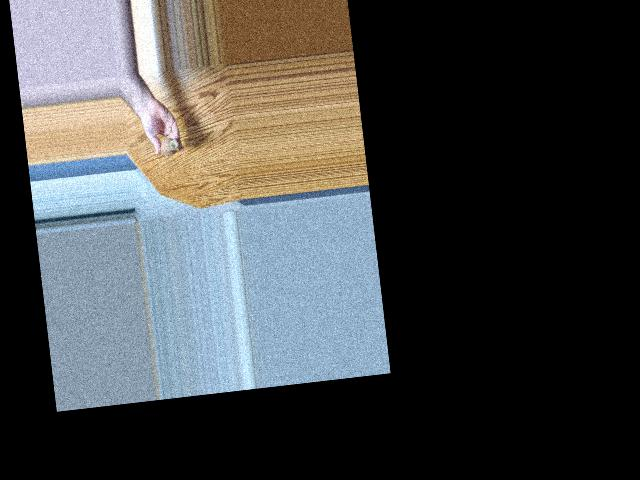sweet_potato: (159, 137, 178, 158)
